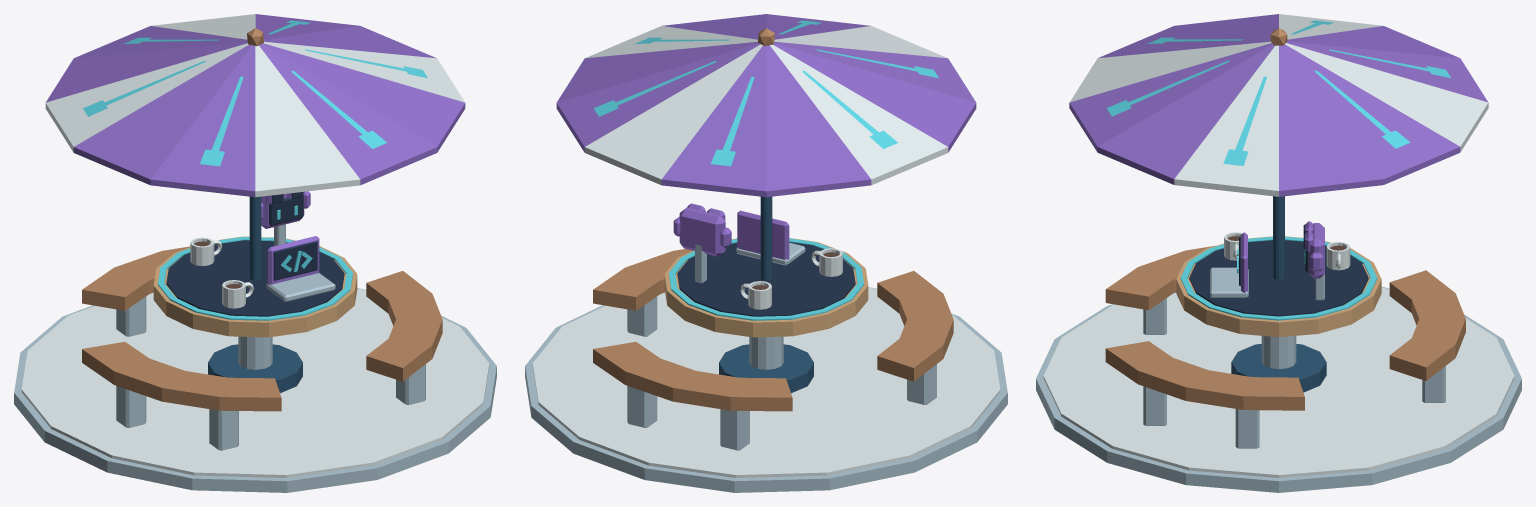
File: campus_meeting_nook_v01.glb
The picture shows the model from 3 angles, left to right: view 1: azimuth 30°, elevation 25°; view 2: azimuth 150°, elevation 25°; view 3: azimuth 270°, elevation 25°; orthographic projection.
Parts seen in each view (by area): view 1: campus_meeting_nook; view 2: campus_meeting_nook; view 3: campus_meeting_nook.
Part boxes in pixels (x1=…): campus_meeting_nook: x1=14, y1=14, x2=496, y2=492; campus_meeting_nook: x1=525, y1=14, x2=1007, y2=492; campus_meeting_nook: x1=1036, y1=14, x2=1521, y2=492.
Size of the model in its own units: 4.5 by 3.7 by 4.5.
1 material, 1 textured.
